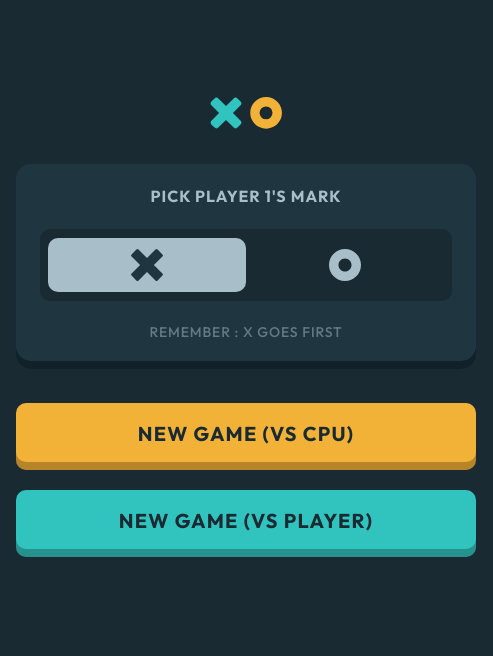
Test: App › starts a two-player game with player 1 as X
Click the button "New game (vs Player)" at [246, 524], box [16,490,476,557]
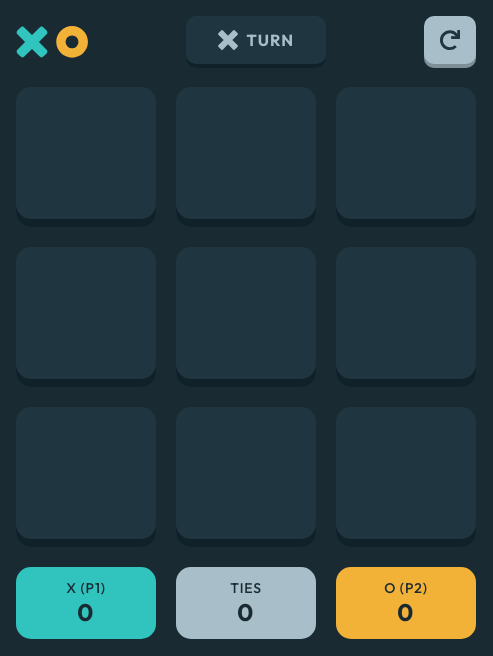
Check: the text "X (p1)" is shown, box [66,578,106,596]
Check: the text "O (p2)" is shown, box [384,578,428,596]
